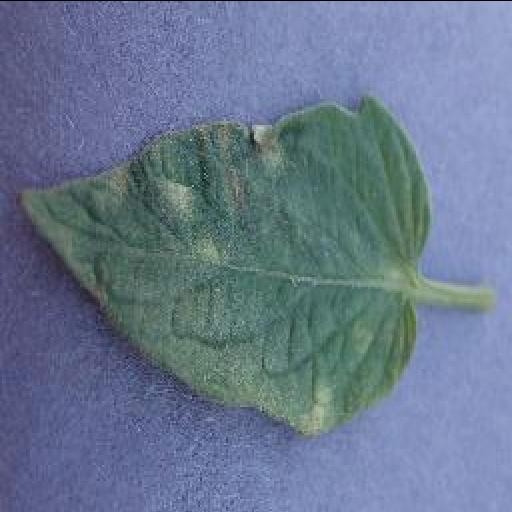disease_tomato: (12, 93, 434, 439)
